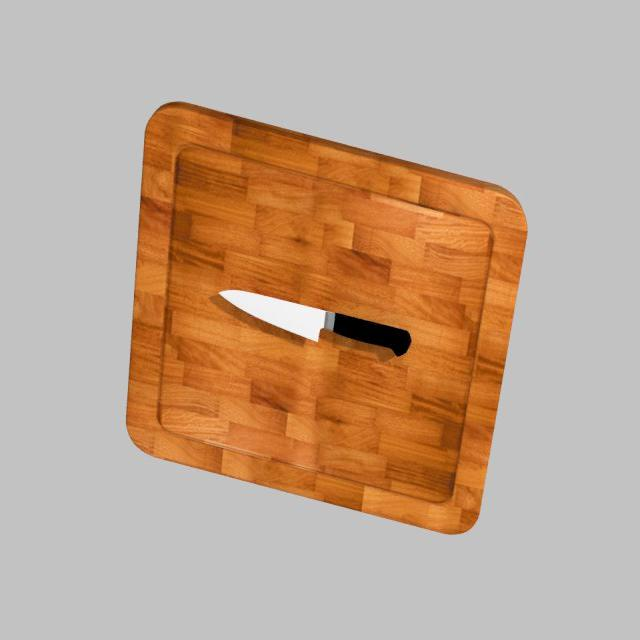knife: (333, 313, 411, 357)
